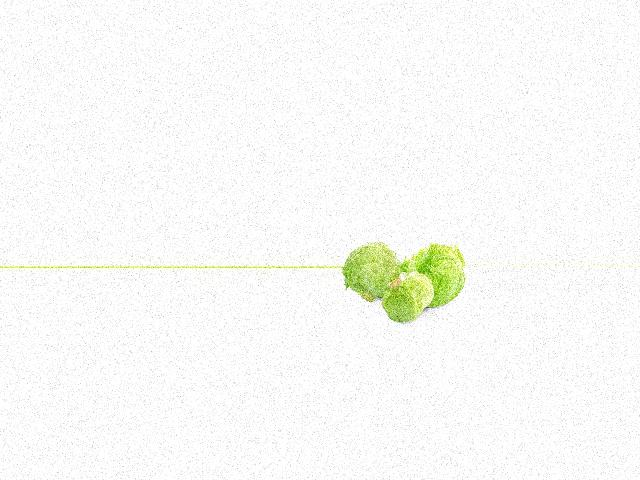lettuce: (410, 246, 462, 303)
